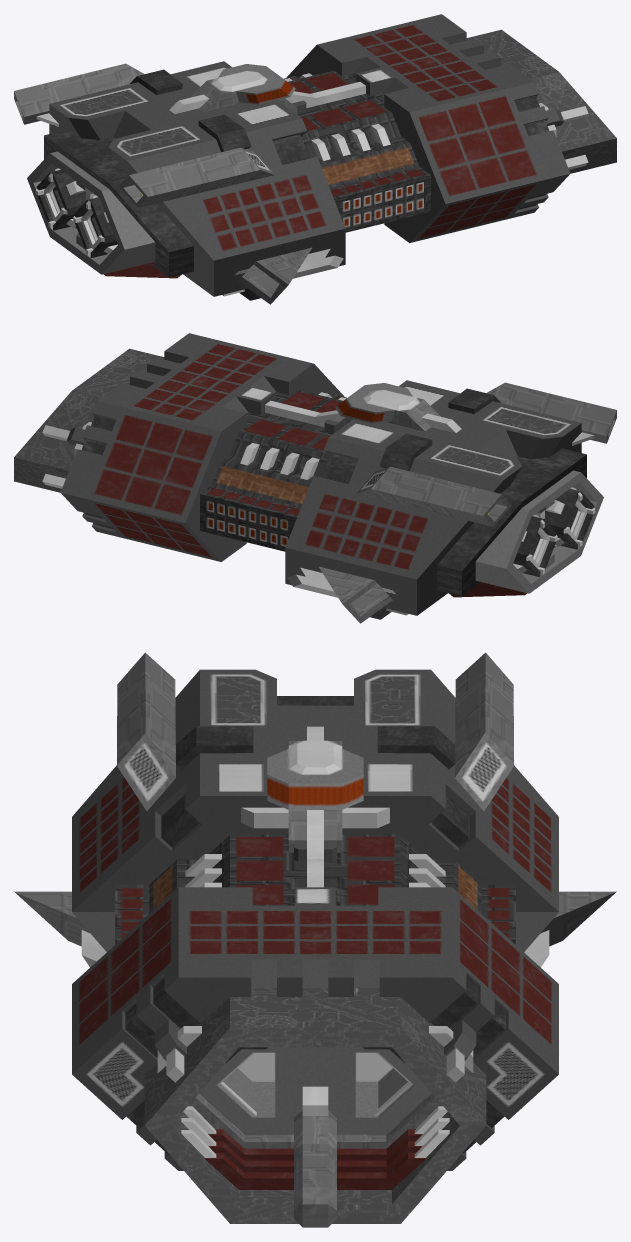
Rendered from battlestar.obj.
3 views of the same model, one above another, from view 1: azimuth 30°, elevation 25°; view 2: azimuth 150°, elevation 25°; view 3: azimuth 270°, elevation 25° (orthographic). The views are drawn at different scales.
Parts seen in each view (by area): view 1: Mesh_LP_Mesh.001; view 2: Mesh_LP_Mesh.001; view 3: Mesh_LP_Mesh.001.
Part boxes in pixels (<box>): Mesh_LP_Mesh.001: <box>14,14,616,304</box>; Mesh_LP_Mesh.001: <box>14,333,616,623</box>; Mesh_LP_Mesh.001: <box>14,652,616,1227</box>.
Bounding box in the file's own units: 94.5 × 33.04 × 63.56.
Materials: 1 (1 with a texture image).
